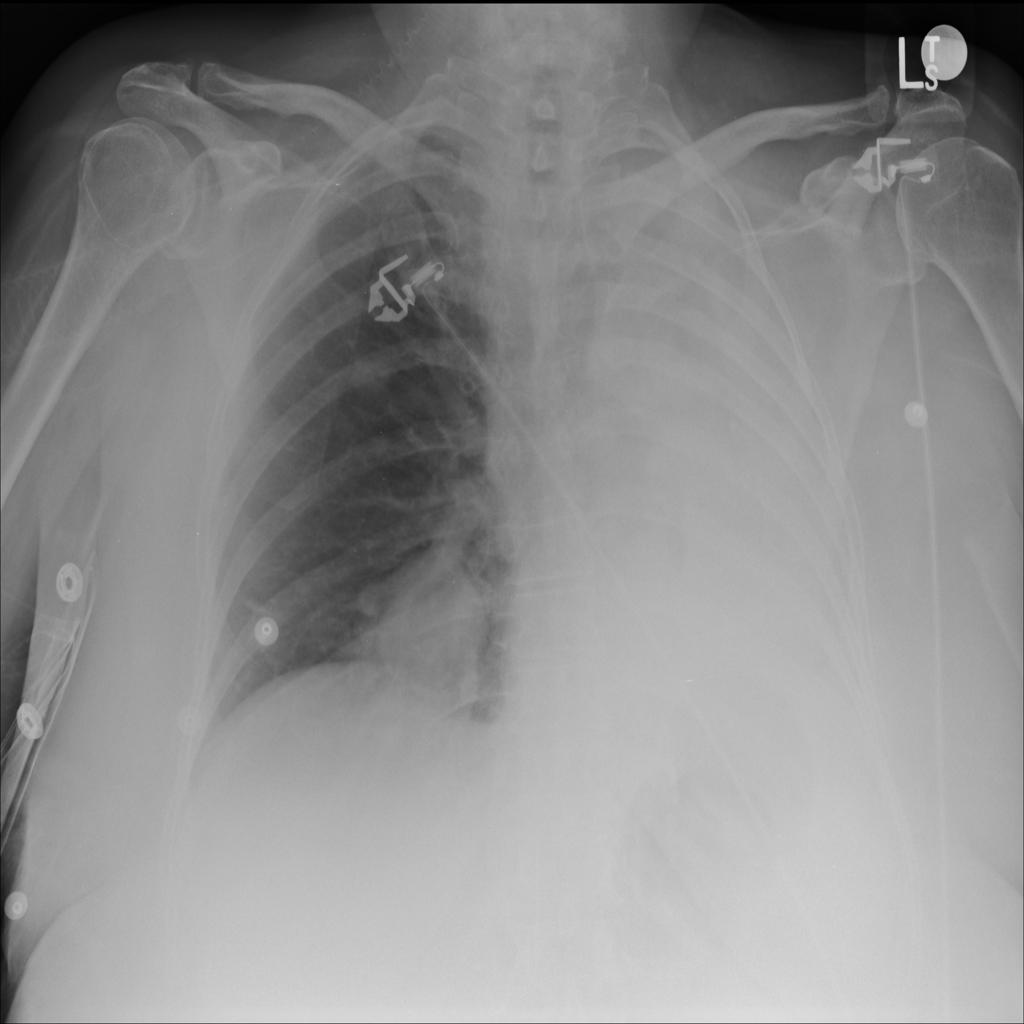nodule: (362, 557, 502, 709), (327, 341, 404, 413), (349, 575, 397, 627)
